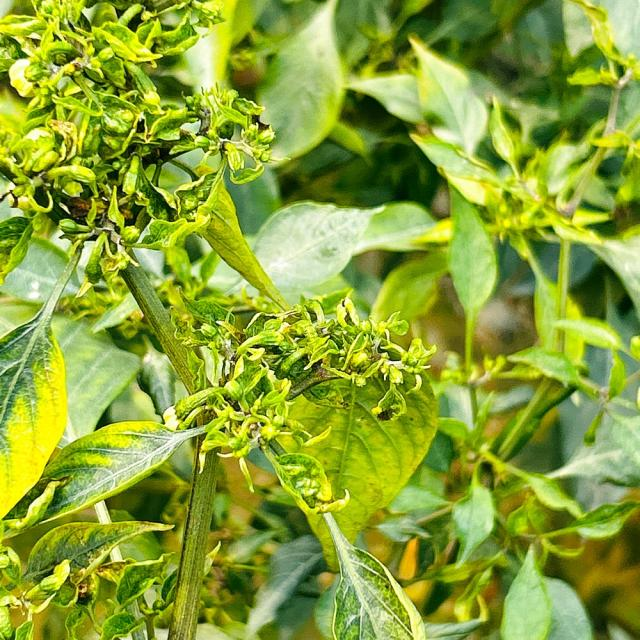Chilli_Leaf_Curl: (1, 1, 638, 638), (170, 292, 440, 638), (0, 0, 288, 308), (6, 414, 212, 536), (0, 233, 85, 520), (320, 509, 426, 639)
